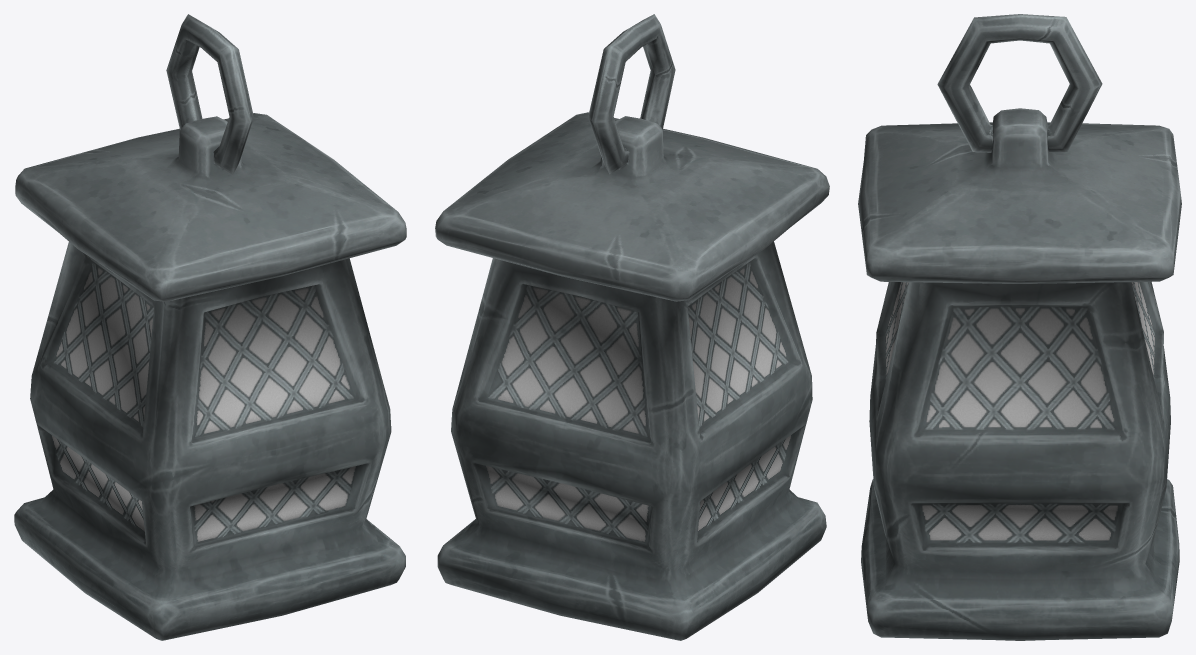
File: lantern2_LOD.fbx
3 renders of one model, left to right at view 1: azimuth 30°, elevation 25°; view 2: azimuth 150°, elevation 25°; view 3: azimuth 270°, elevation 25°, orthographic. The views are drawn at different scales.
Visible parts, largest first — view 1: lantern2_LOD0; view 2: lantern2_LOD0; view 3: lantern2_LOD0.
Boxes of the visible parts, x1=… form: lantern2_LOD0: x1=14, y1=14, x2=406, y2=640; lantern2_LOD0: x1=435, y1=14, x2=829, y2=640; lantern2_LOD0: x1=858, y1=14, x2=1181, y2=640.
Size of what is drawn, in the model's own units: 247 by 479 by 247.
